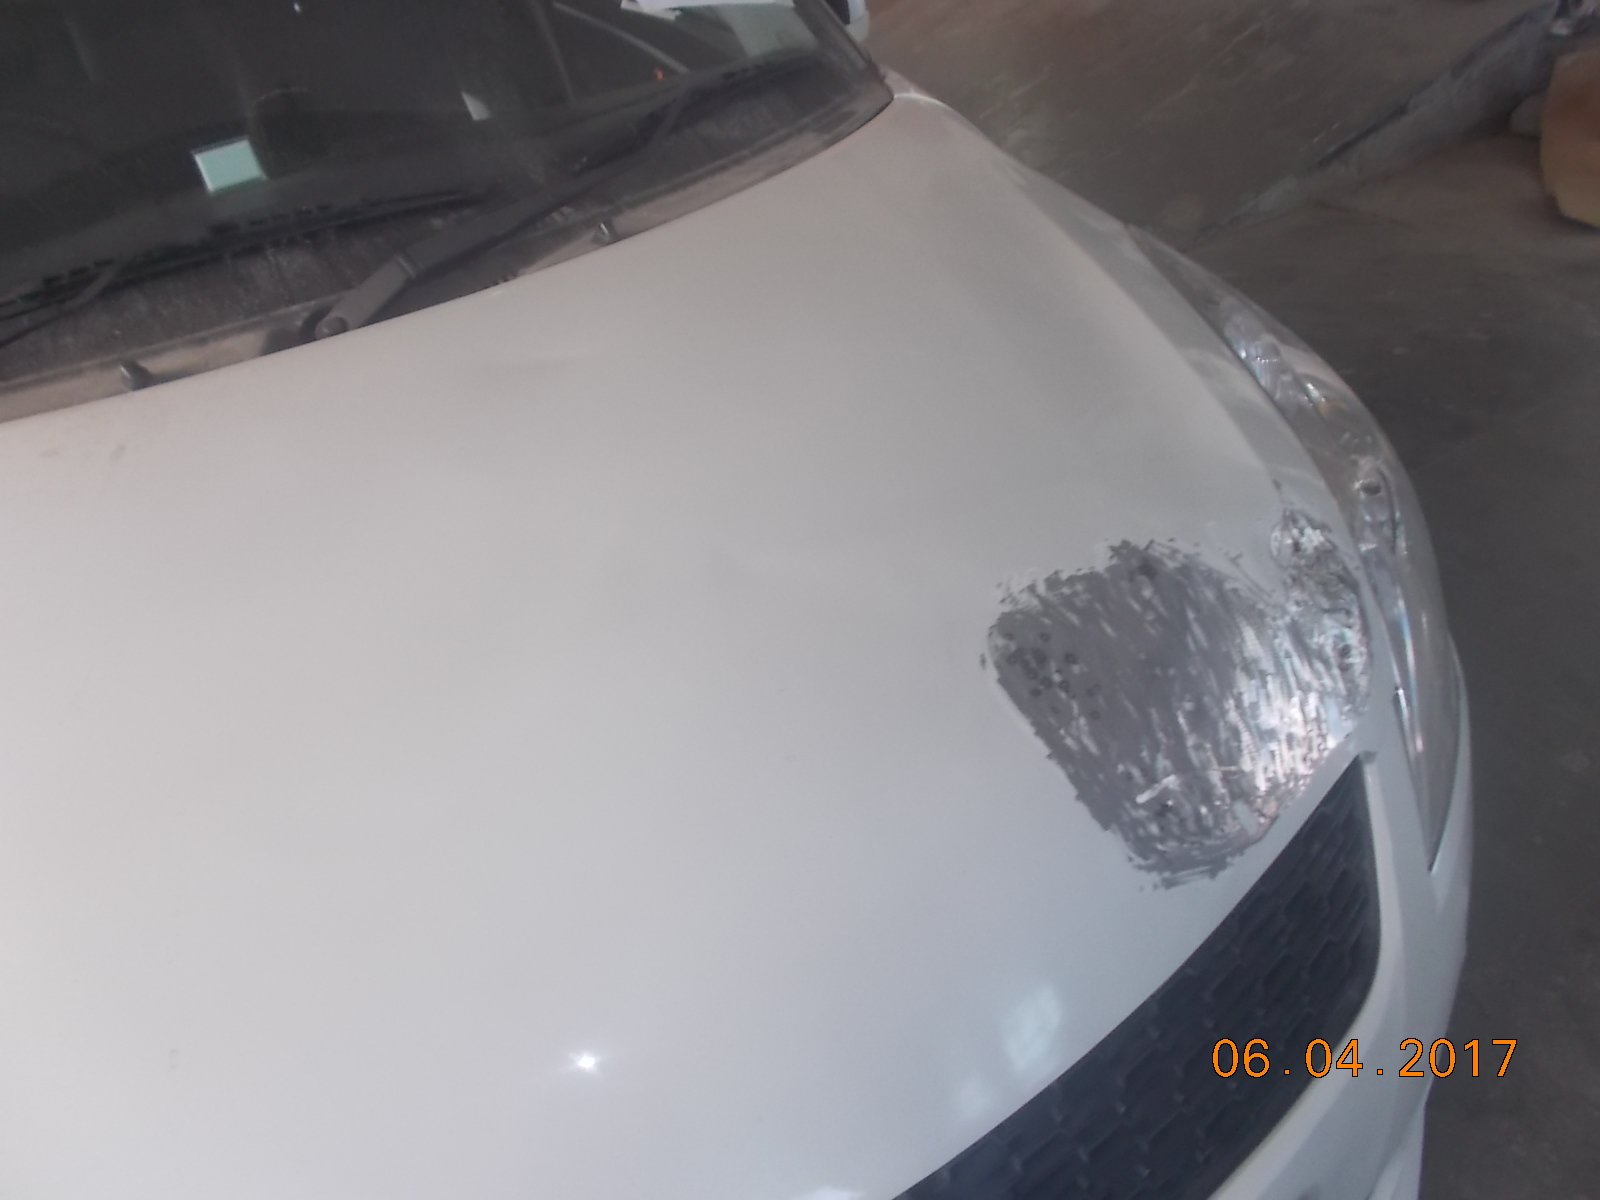Dent: (970, 524, 1328, 763)
